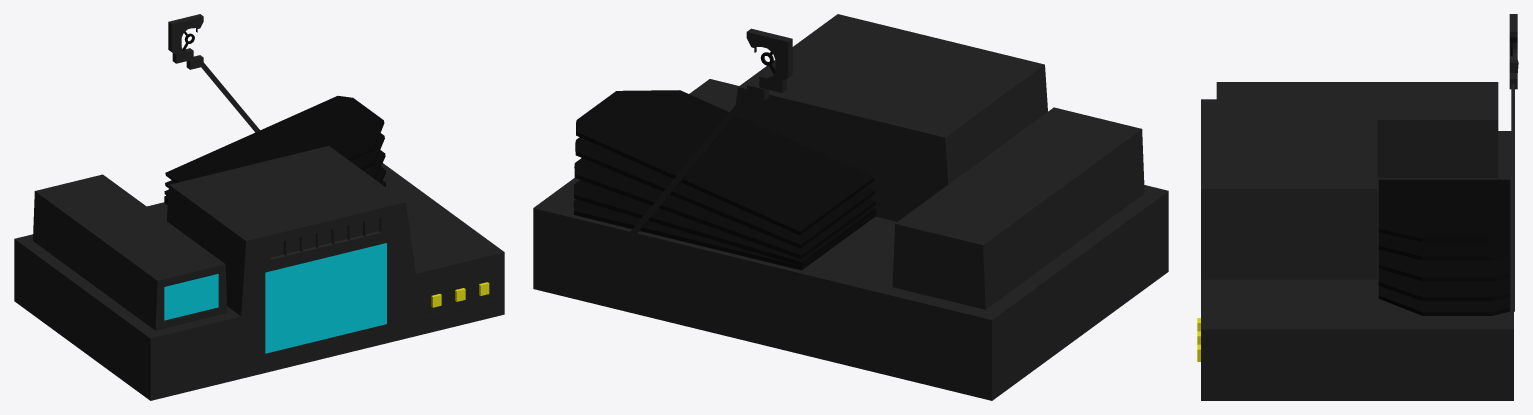
The model's file is empathy_test_1.FBX.
3 views of the same model, side by side, from view 1: azimuth 30°, elevation 25°; view 2: azimuth 150°, elevation 25°; view 3: azimuth 270°, elevation 25° (orthographic). The views are drawn at different scales.
Visible parts, largest first — view 1: Box001; view 2: Box001; view 3: Box001.
Part boxes in pixels (bbox=[...]): Box001: bbox=[14, 14, 504, 400]; Box001: bbox=[533, 14, 1168, 400]; Box001: bbox=[1197, 14, 1518, 400].
Bounding box in the file's own units: 30 × 19.44 × 20.52.
